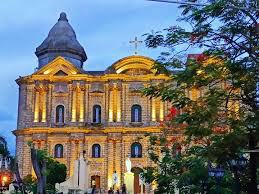taal_basilica_church_taal_batangas: (13, 7, 247, 194)
